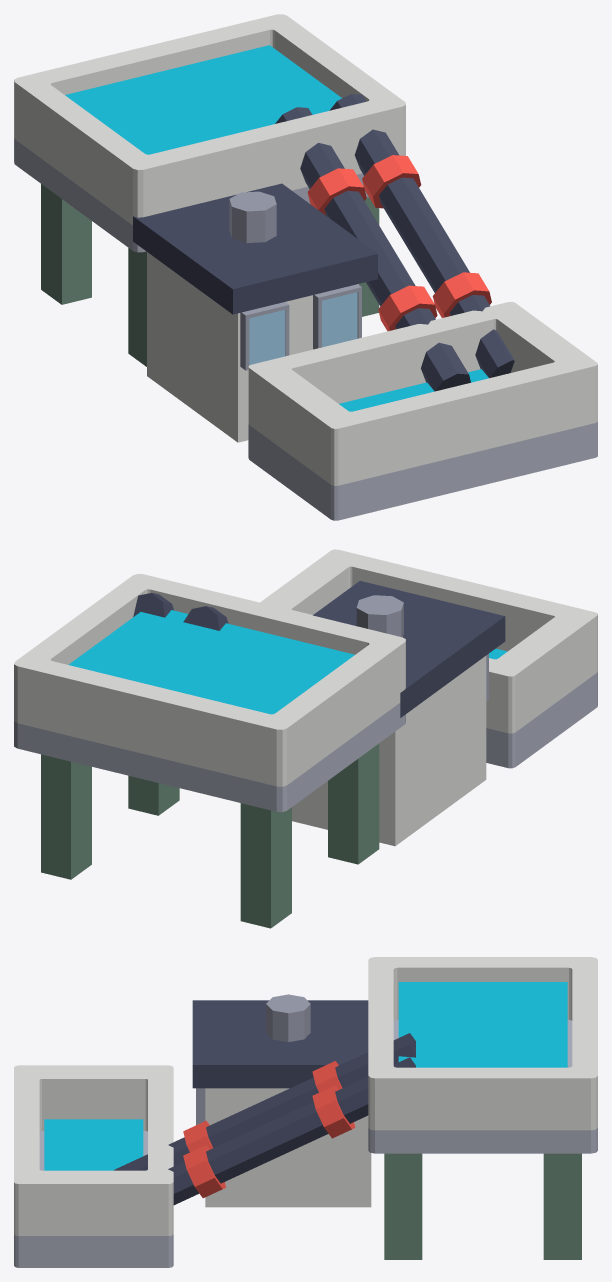
File: hydro-1x2-t2-tone-a.glb
3 renders of one model, top to bottom at view 1: azimuth 30°, elevation 25°; view 2: azimuth 150°, elevation 25°; view 3: azimuth 270°, elevation 25°, orthographic. The views are drawn at different scales.
Visible parts, largest first — view 1: hydro-1x2-t2-tone-a; view 2: hydro-1x2-t2-tone-a; view 3: hydro-1x2-t2-tone-a.
Boxes of the visible parts, left/top/right/bottom form: hydro-1x2-t2-tone-a: left=14, top=14, right=597, bottom=520; hydro-1x2-t2-tone-a: left=14, top=549, right=597, bottom=928; hydro-1x2-t2-tone-a: left=14, top=957, right=597, bottom=1267.
Size of the model in its own units: 0.9 by 0.6734 by 1.83.
1 material, 1 textured.
